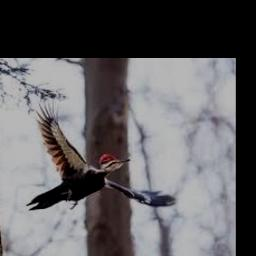Woodpecker: (27, 99, 177, 210)
